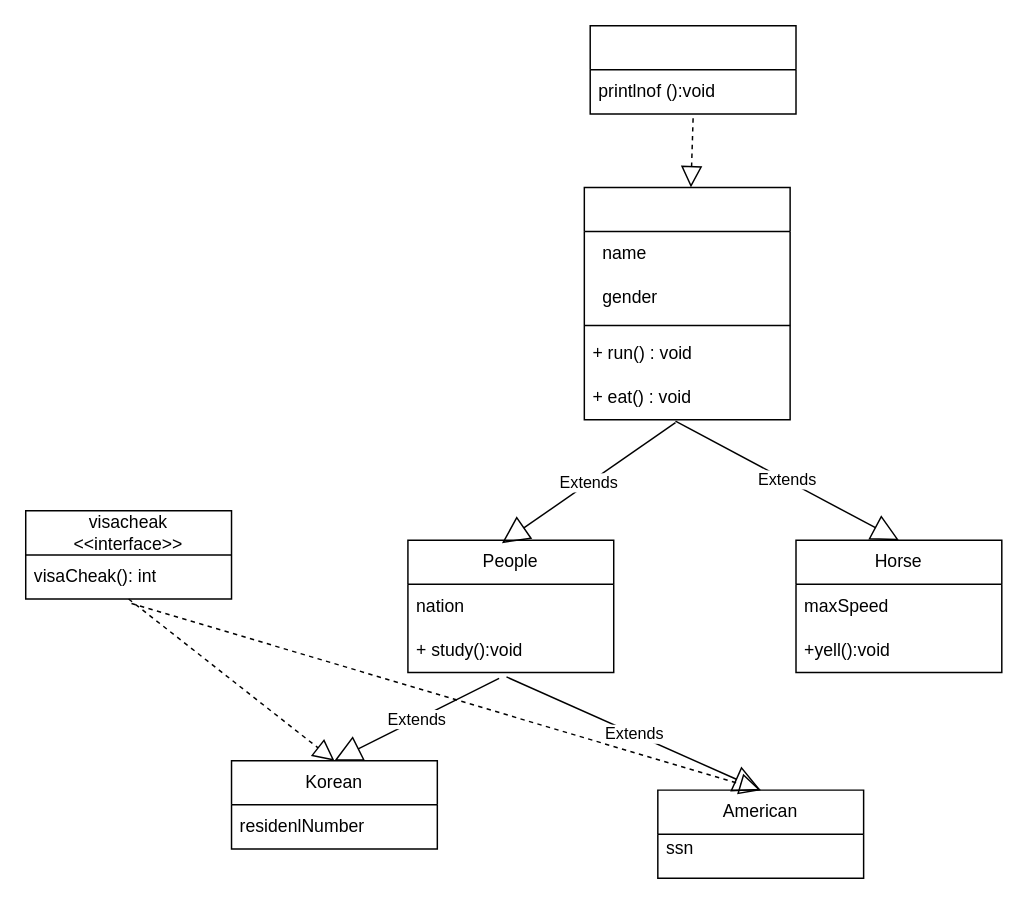
The diagram is 1028 pixels wide and 904 high, and some of its shapes have lost their labels. The box of each missing label's shape, as (x1, y1, x2, y2) in pixels:
Animal: (583, 186, 790, 420)
Info <<interface>>: (589, 24, 796, 114)
